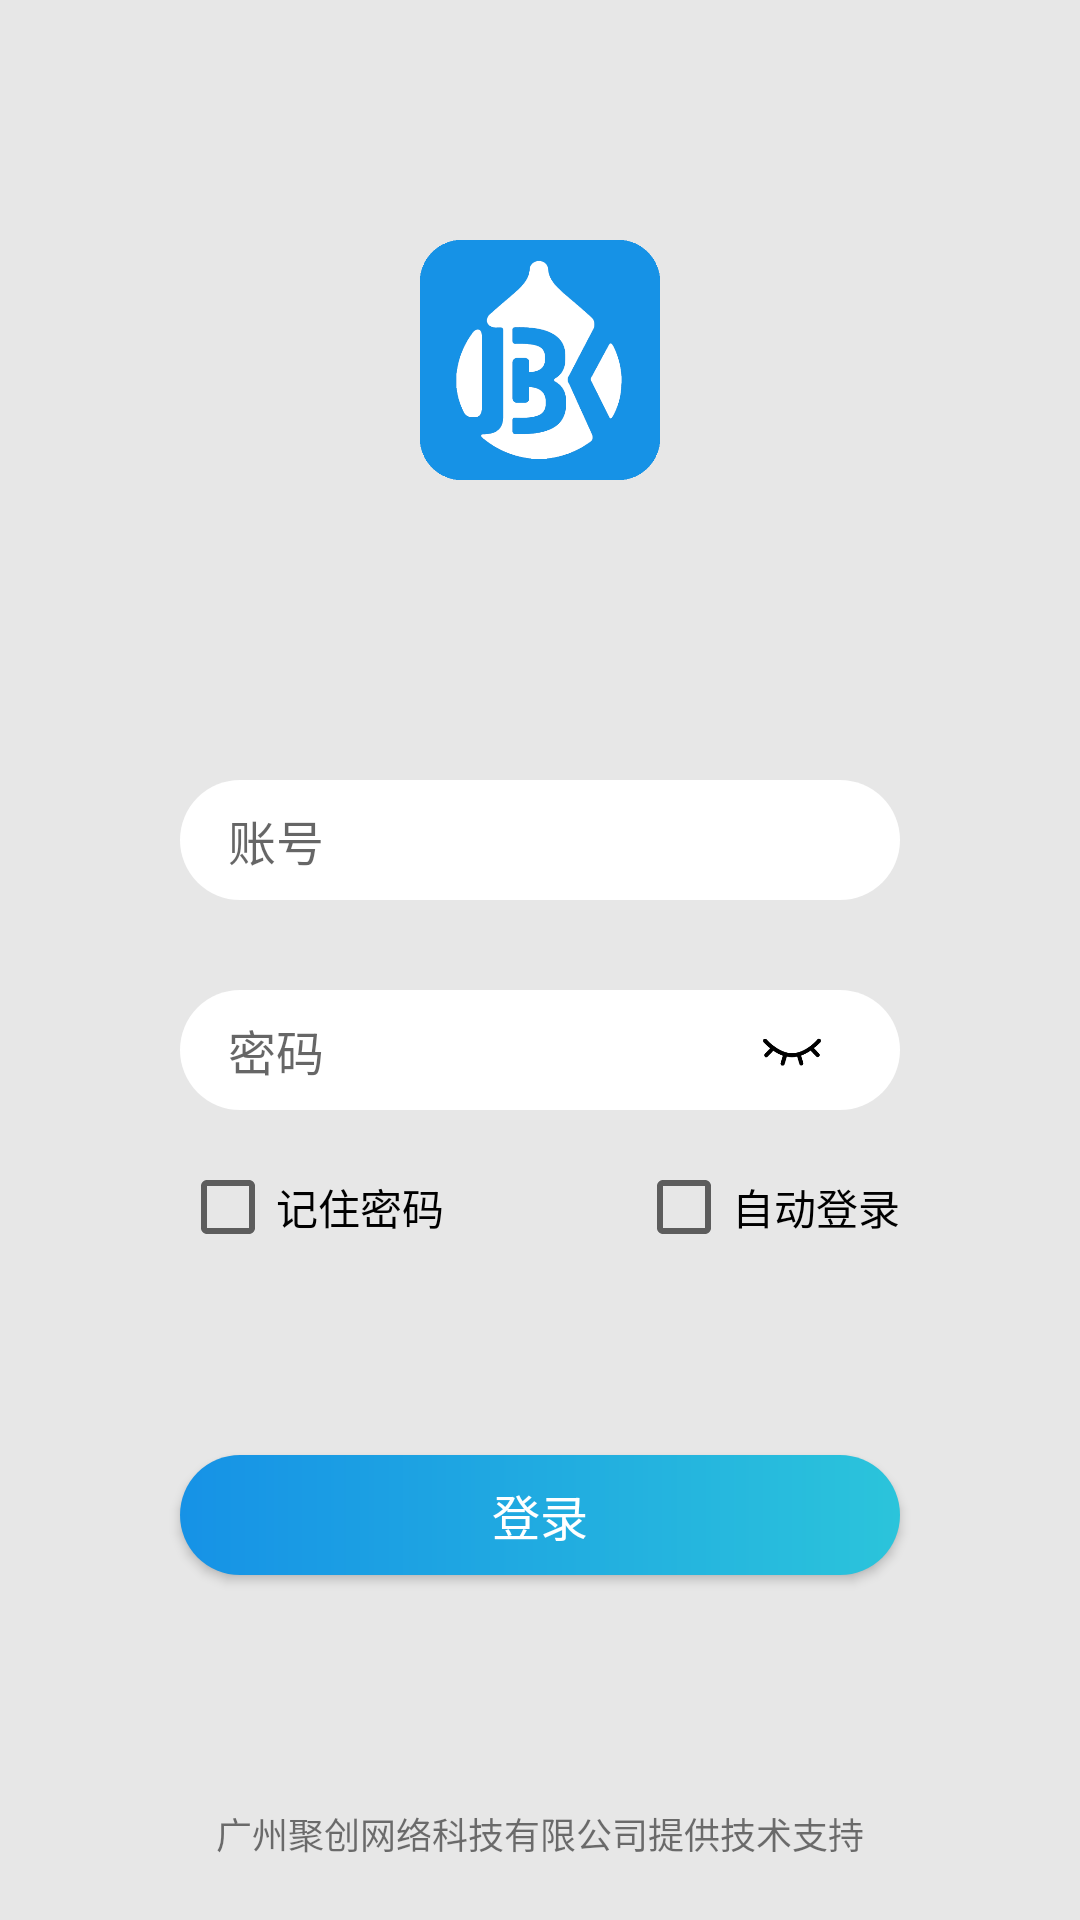

Named icons in this screenshot (1080px×1920px) and their bounding boxes, (x1, y1, x2, y2):
login pwd eye close: (763, 1038, 821, 1066)
